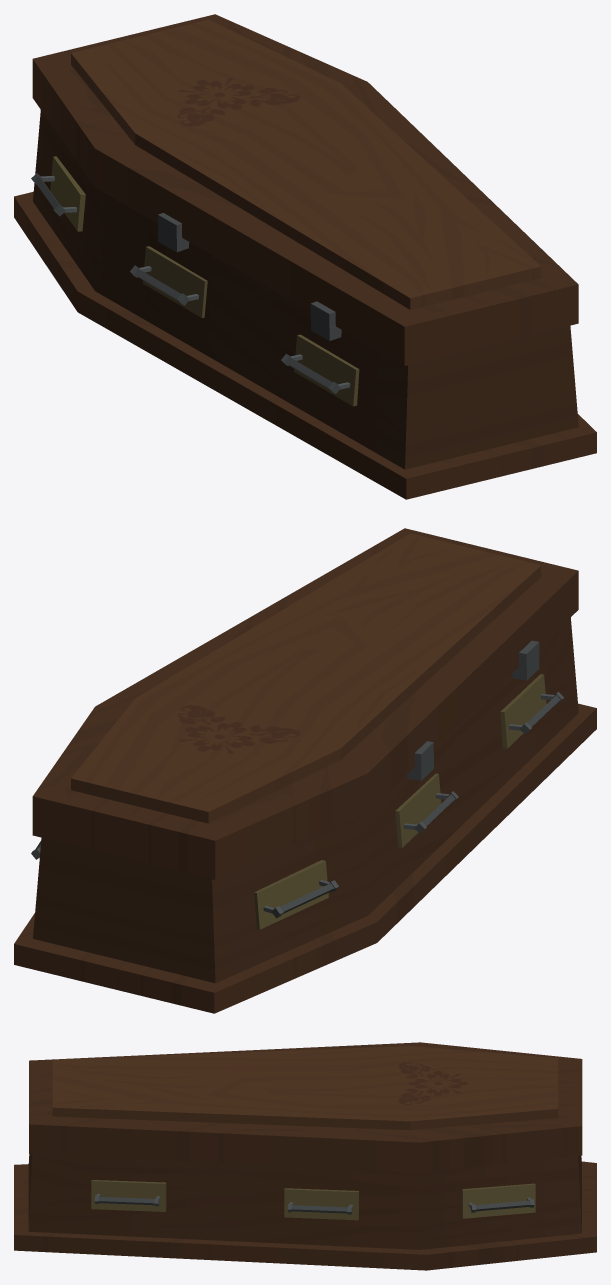
File: Coffin 01.fbx
3 views of the same model, one above another, from view 1: azimuth 30°, elevation 25°; view 2: azimuth 150°, elevation 25°; view 3: azimuth 270°, elevation 25° (orthographic). The views are drawn at different scales.
Parts seen in each view (by area): view 1: Cover, Coffin_01; view 2: Cover, Coffin_01; view 3: Cover, Coffin_01.
Boxes of the visible parts, x1,y1,x2,y2 form: Cover: (32, 14, 578, 365); Coffin_01: (14, 110, 596, 499); Cover: (32, 528, 578, 879); Coffin_01: (14, 617, 596, 1013); Cover: (29, 1042, 582, 1171); Coffin_01: (14, 1154, 596, 1270).
Size of the model in its own units: 110 by 61.4 by 246.
